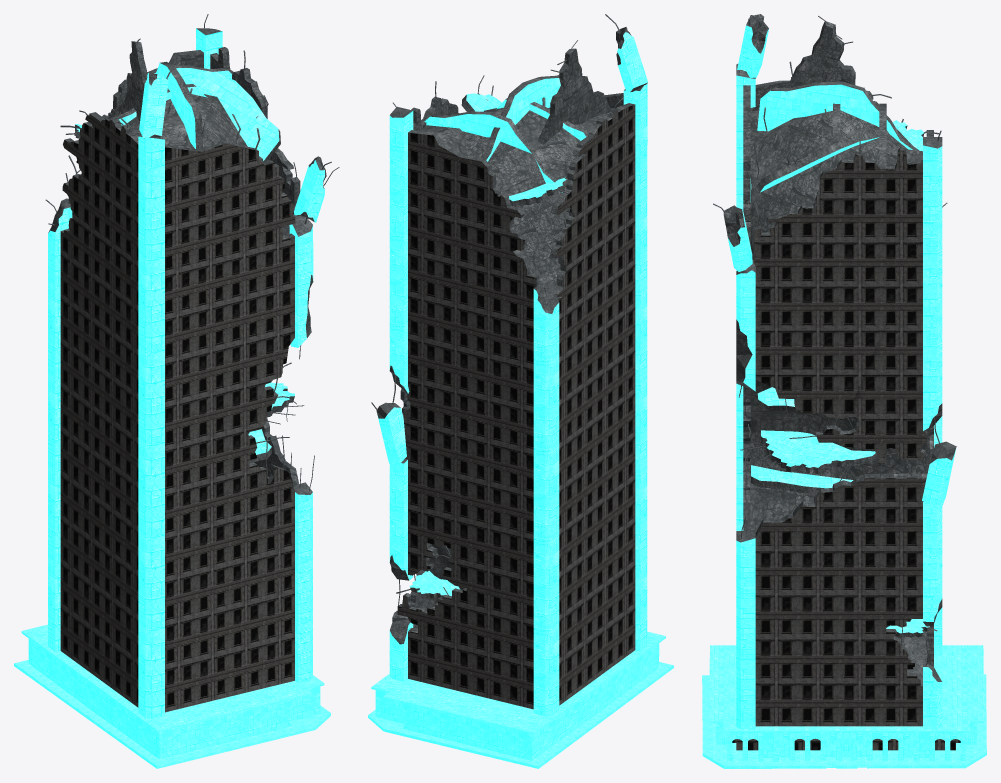
The picture shows the model from 3 angles, left to right: view 1: azimuth 30°, elevation 25°; view 2: azimuth 150°, elevation 25°; view 3: azimuth 270°, elevation 25°; orthographic projection. The views are drawn at different scales.
Parts seen in each view (by area): view 1: SMO_BG50_BUILD_UTZ_0010_j; view 2: SMO_BG50_BUILD_UTZ_0010_j; view 3: SMO_BG50_BUILD_UTZ_0010_j.
Boxes of the visible parts, left/top/right/bottom form: SMO_BG50_BUILD_UTZ_0010_j: left=14, top=14, right=339, bottom=768; SMO_BG50_BUILD_UTZ_0010_j: left=368, top=14, right=673, bottom=768; SMO_BG50_BUILD_UTZ_0010_j: left=702, top=14, right=986, bottom=768.
Size of the model in its own units: 7925 by 25811 by 9757.
